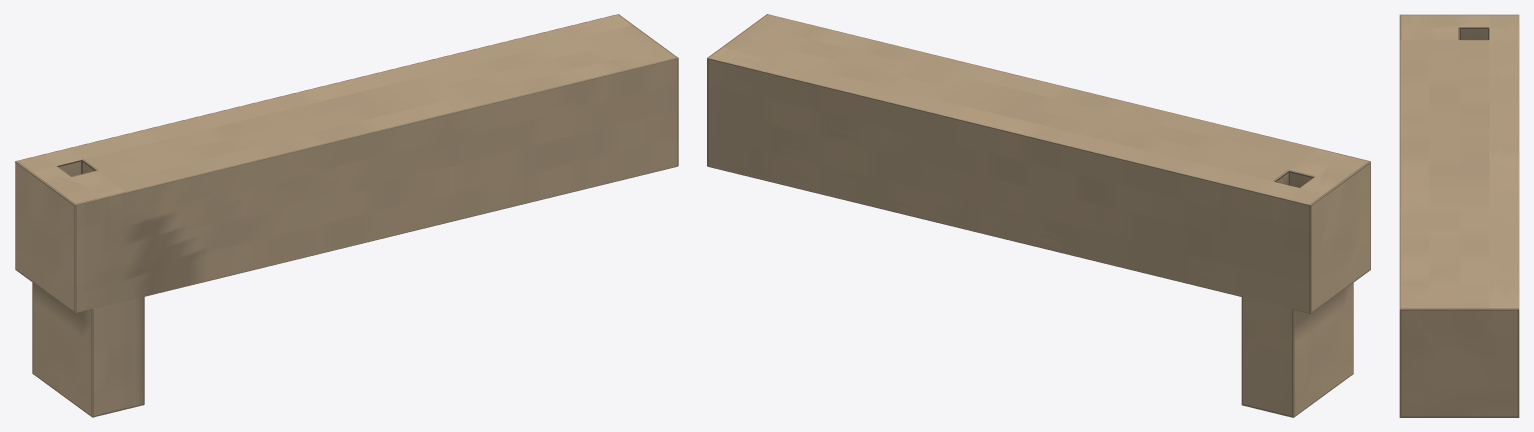
The picture shows the model from 3 angles, left to right: view 1: azimuth 30°, elevation 25°; view 2: azimuth 150°, elevation 25°; view 3: azimuth 270°, elevation 25°; orthographic projection.
Parts seen in each view (by area): view 1: part-b; view 2: part-b; view 3: part-b.
Part boxes in pixels (x1,y1,x2,y2): part-b: [15, 14, 678, 417]; part-b: [707, 14, 1370, 417]; part-b: [1399, 14, 1519, 417].
Bounding box in the file's own units: 0.7019 × 0.2413 × 0.1208.
